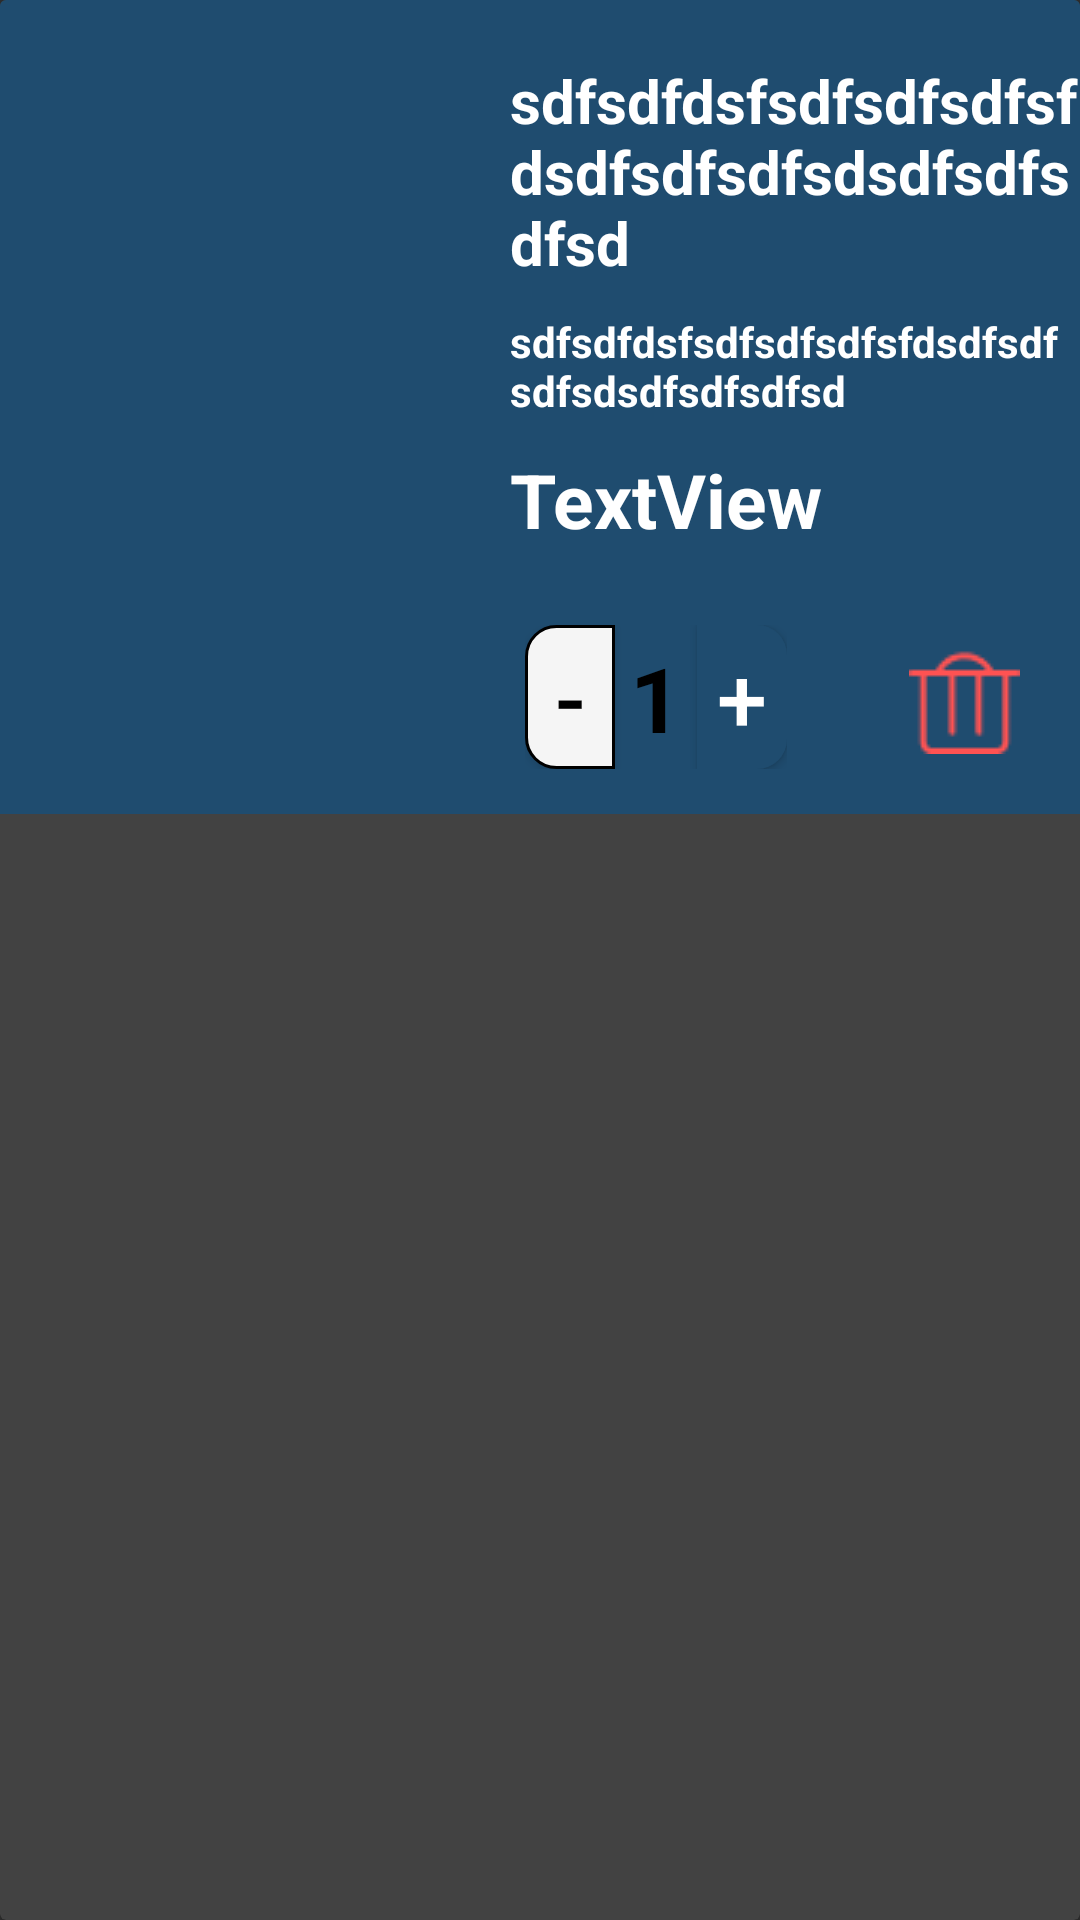

Where icons sit on this 1080*1920 app screen, as [left=x1, top=y1, right=x2, bottom=y2]:
delete: [left=909, top=651, right=1020, bottom=754]
